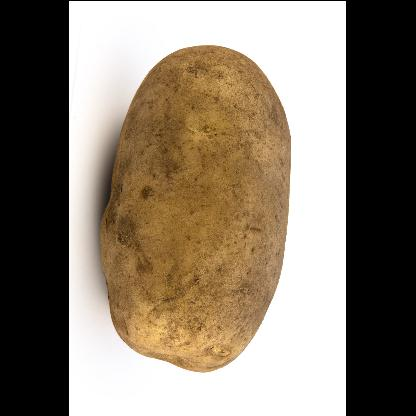potato: (100, 46, 294, 372)
